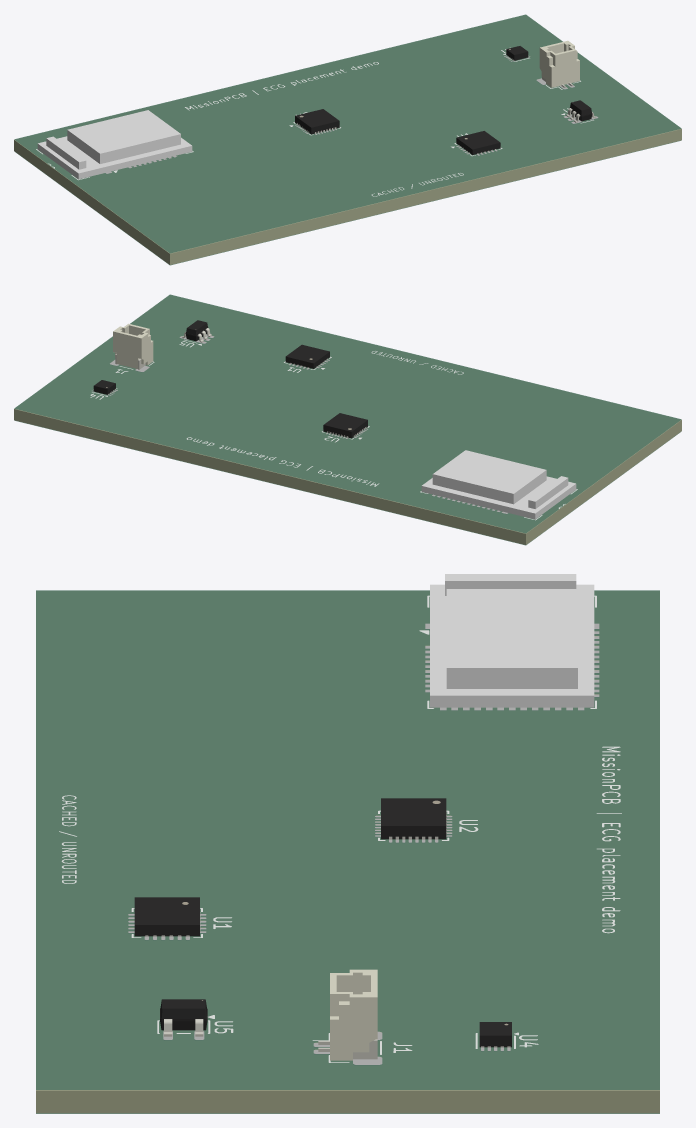
The model's file is improved.glb.
3 views of the same model, one above another, from view 1: azimuth 30°, elevation 25°; view 2: azimuth 150°, elevation 25°; view 3: azimuth 270°, elevation 25° (orthographic). The views are drawn at different scales.
Visible parts, largest first — view 1: =>[0:1:1:18], =>[0:1:1:16], =>[0:1:1:5], =>[0:1:1:3], =>[0:1:1:15], =>[0:1:1:9], =>[0:1:1:11], =>[0:1:1:17], =>[0:1:1:7], =>[0:1:1:14]; view 2: =>[0:1:1:18], =>[0:1:1:16], =>[0:1:1:5], =>[0:1:1:3], =>[0:1:1:15], =>[0:1:1:9], =>[0:1:1:11], =>[0:1:1:17], =>[0:1:1:14], =>[0:1:1:7]; view 3: =>[0:1:1:18], =>[0:1:1:16], =>[0:1:1:5], =>[0:1:1:3], =>[0:1:1:15], =>[0:1:1:9], =>[0:1:1:11], =>[0:1:1:14], =>[0:1:1:7], =>[0:1:1:13].
Boxes of the visible parts, bbox=[...] form: =>[0:1:1:18]: bbox=[14, 15, 681, 264]; =>[0:1:1:16]: bbox=[14, 14, 681, 253]; =>[0:1:1:5]: bbox=[37, 110, 192, 179]; =>[0:1:1:3]: bbox=[539, 40, 579, 87]; =>[0:1:1:15]: bbox=[36, 47, 593, 196]; =>[0:1:1:9]: bbox=[295, 109, 339, 134]; =>[0:1:1:11]: bbox=[456, 131, 500, 154]; =>[0:1:1:17]: bbox=[14, 140, 681, 265]; =>[0:1:1:7]: bbox=[566, 100, 595, 122]; =>[0:1:1:14]: bbox=[106, 55, 598, 173]; =>[0:1:1:18]: bbox=[14, 295, 681, 544]; =>[0:1:1:16]: bbox=[14, 294, 681, 533]; =>[0:1:1:5]: bbox=[421, 450, 576, 519]; =>[0:1:1:3]: bbox=[113, 323, 153, 369]; =>[0:1:1:15]: bbox=[90, 339, 577, 520]; =>[0:1:1:9]: bbox=[323, 413, 367, 438]; =>[0:1:1:11]: bbox=[285, 344, 329, 368]; =>[0:1:1:17]: bbox=[14, 420, 681, 545]; =>[0:1:1:14]: bbox=[92, 334, 508, 513]; =>[0:1:1:7]: bbox=[182, 320, 211, 342]; =>[0:1:1:18]: bbox=[36, 591, 659, 1113]; =>[0:1:1:16]: bbox=[36, 590, 659, 1089]; =>[0:1:1:5]: bbox=[430, 574, 594, 707]; =>[0:1:1:3]: bbox=[318, 969, 377, 1060]; =>[0:1:1:15]: bbox=[59, 595, 621, 1062]; =>[0:1:1:9]: bbox=[381, 798, 446, 839]; =>[0:1:1:11]: bbox=[134, 897, 200, 936]; =>[0:1:1:14]: bbox=[128, 623, 599, 1064]; =>[0:1:1:7]: bbox=[160, 999, 207, 1036]; =>[0:1:1:13]: bbox=[479, 1022, 511, 1047].
Bounding box in the file's own units: 0.072 × 0.00596 × 0.038.
